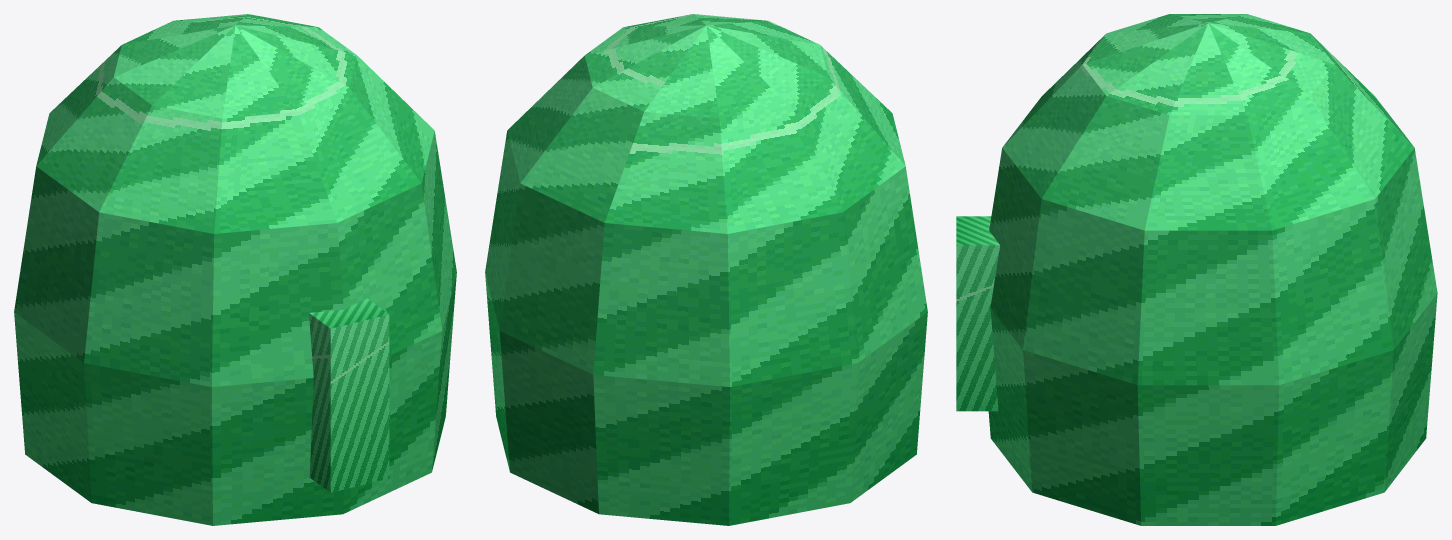
File: capacete_de_esmeralda.glb
3 renders of one model, left to right at view 1: azimuth 30°, elevation 25°; view 2: azimuth 150°, elevation 25°; view 3: azimuth 270°, elevation 25°, orthographic.
Parts seen in each view (by area): view 1: capacete_de_esmeralda; view 2: capacete_de_esmeralda; view 3: capacete_de_esmeralda.
Part boxes in pixels (left/top/right/bottom): capacete_de_esmeralda: left=14, top=14, right=456, bottom=525; capacete_de_esmeralda: left=485, top=14, right=927, bottom=525; capacete_de_esmeralda: left=956, top=14, right=1437, bottom=525.
Size of the model in its own units: 0.3804 by 0.4 by 0.42.
Materials: 1 (1 with a texture image).
